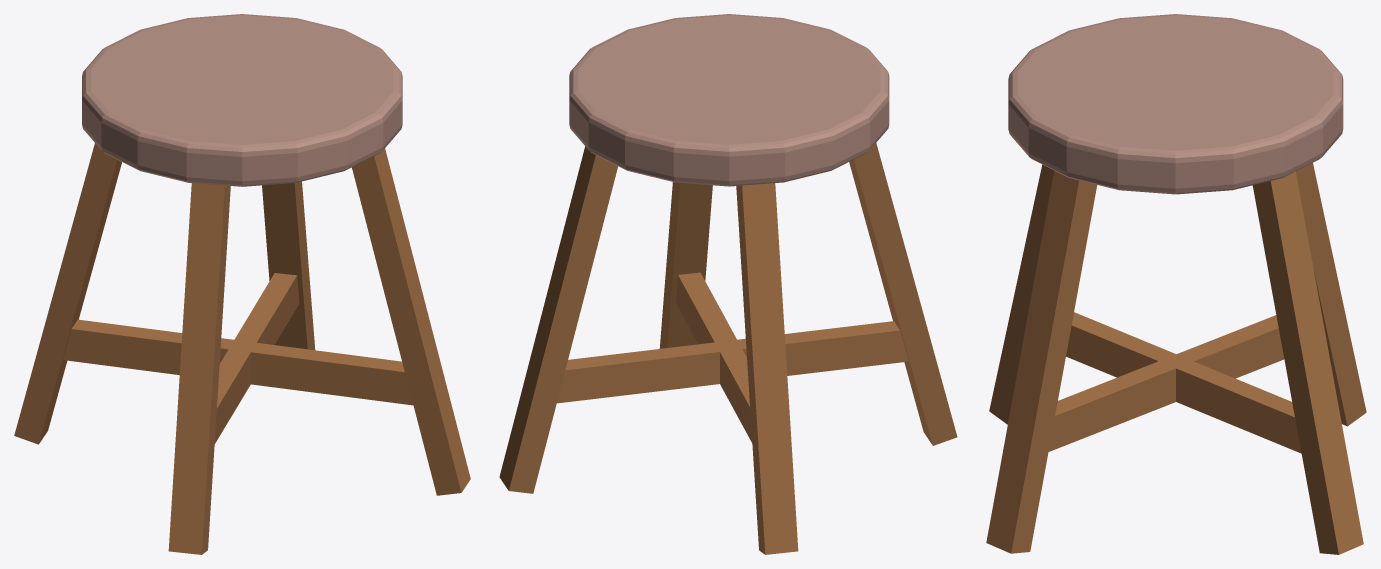
The model's file is Stool_modern.glb.
3 views of the same model, side by side, from view 1: azimuth 30°, elevation 25°; view 2: azimuth 150°, elevation 25°; view 3: azimuth 270°, elevation 25° (orthographic). The views are drawn at different scales.
Parts seen in each view (by area): view 1: Cylinder002, Box010, Box007, Box012, Box009, Box008, Box011; view 2: Cylinder002, Box009, Box008, Box011, Box010, Box007, Box012; view 3: Cylinder002, Box008, Box007, Box011, Box012, Box009, Box010.
Boxes of the visible parts, x1,y1,x2,y2 form: Cylinder002: [82, 14, 402, 186]; Box010: [168, 183, 230, 554]; Box007: [352, 148, 470, 495]; Box012: [63, 319, 413, 405]; Box009: [14, 143, 121, 444]; Box008: [262, 181, 315, 350]; Box011: [214, 273, 299, 443]; Cylinder002: [569, 14, 889, 186]; Box009: [736, 183, 798, 554]; Box008: [499, 146, 617, 493]; Box011: [557, 321, 908, 403]; Box010: [849, 143, 957, 445]; Box007: [659, 182, 712, 348]; Box012: [676, 272, 752, 442]; Cylinder002: [1008, 14, 1343, 194]; Box008: [1252, 171, 1363, 554]; Box007: [986, 170, 1097, 553]; Box011: [1066, 312, 1301, 453]; Box012: [1048, 315, 1284, 451]; Box009: [1296, 163, 1366, 426]; Box010: [989, 164, 1054, 424].
Bounding box in the file's own units: 257818 × 311577 × 268219.
